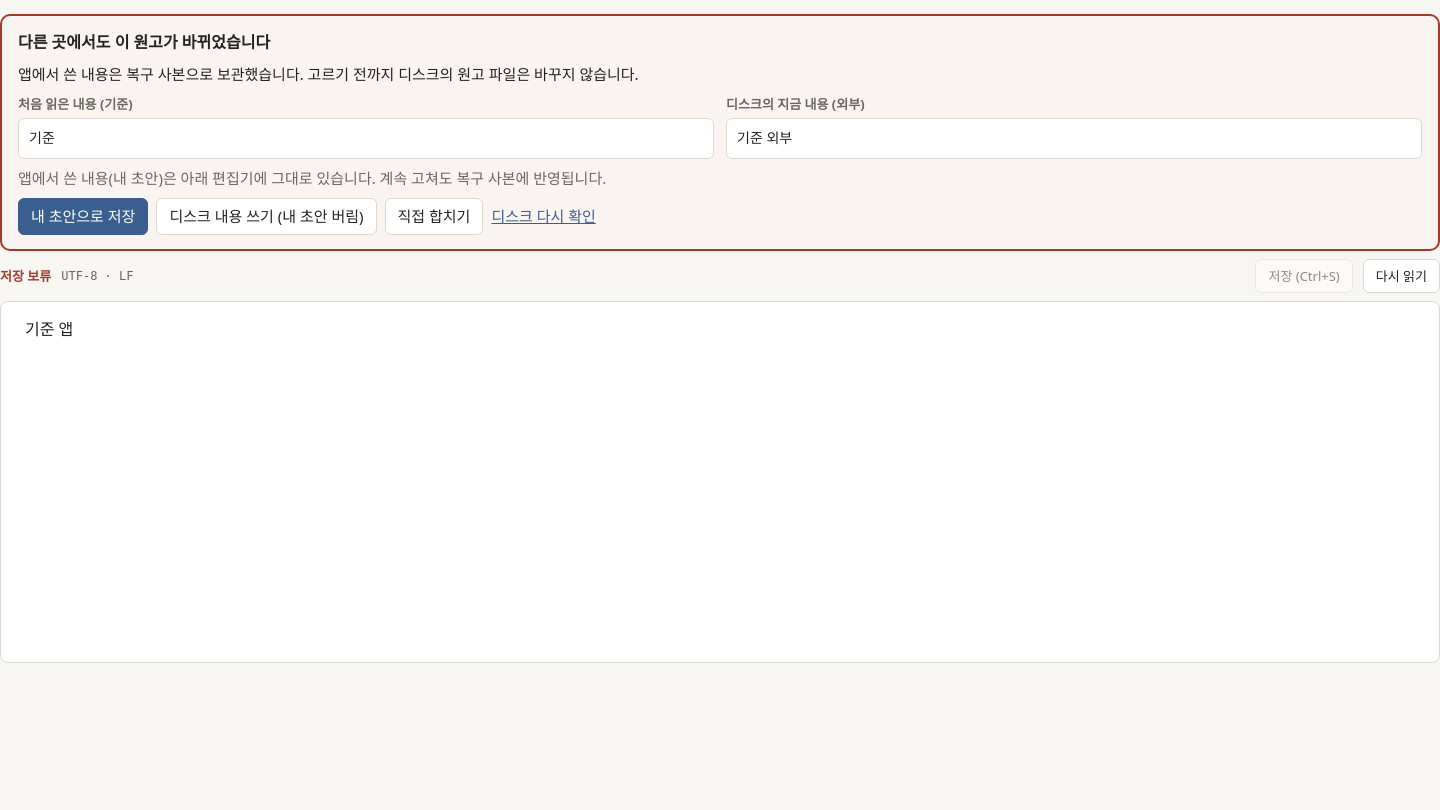
Scenario: 05 · external changes and conflicts › take disk: editor gets the disk text, recovery copy discarded, nothing saved
Click the button "디스크 내용 쓰기 (내 초안 버림)". click: (266,216)
box: [156,198,376,235]
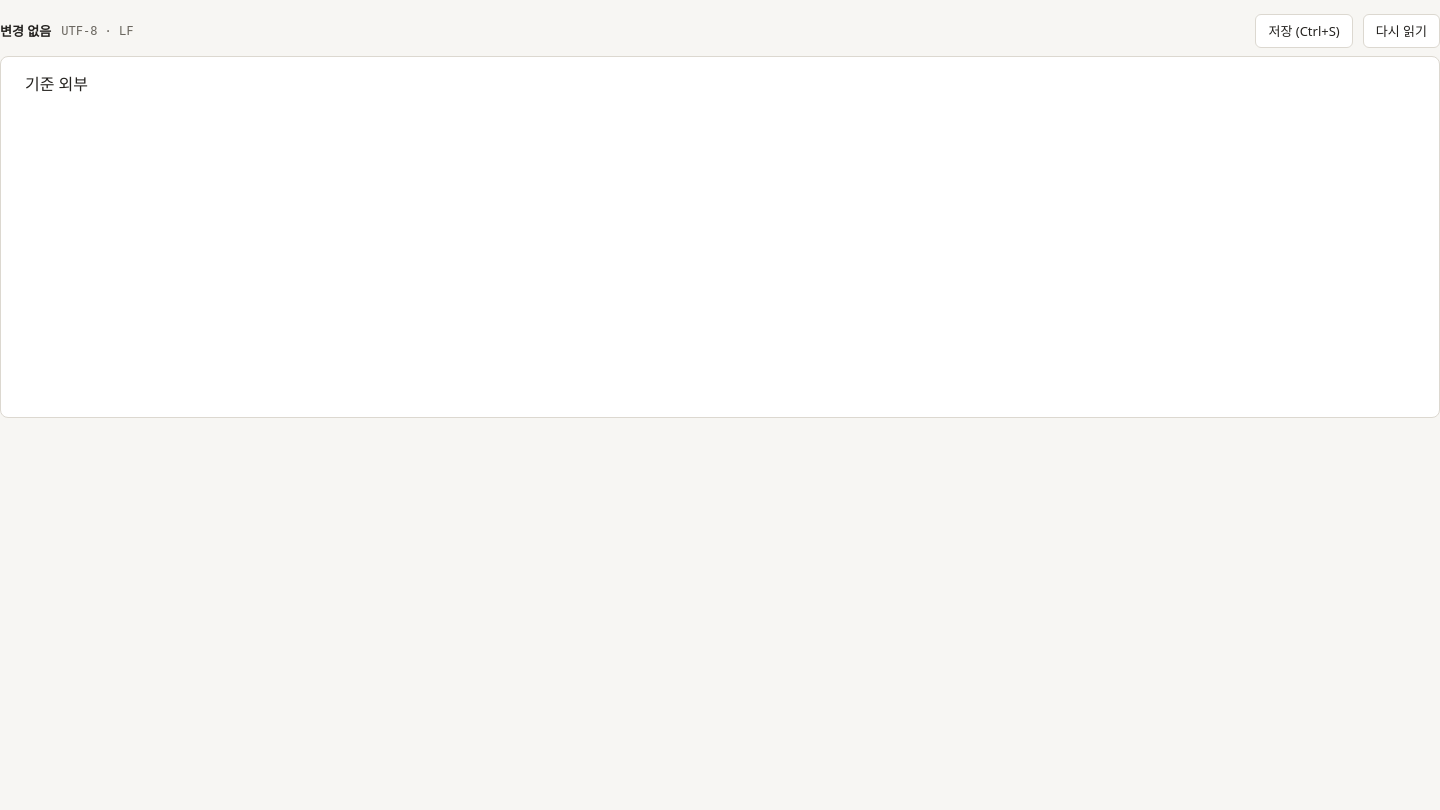
Result: the text box labelled "기준 외부" is shown at [25,73,88,95]
Result: the text with test id "save-state" reads "변경 없음" at [0,22,51,40]
